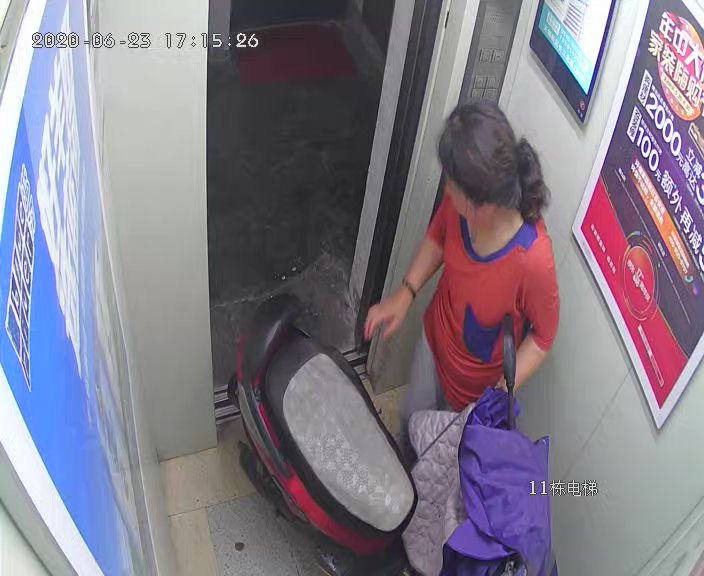Electric-bicycle: (235, 306, 543, 568)
